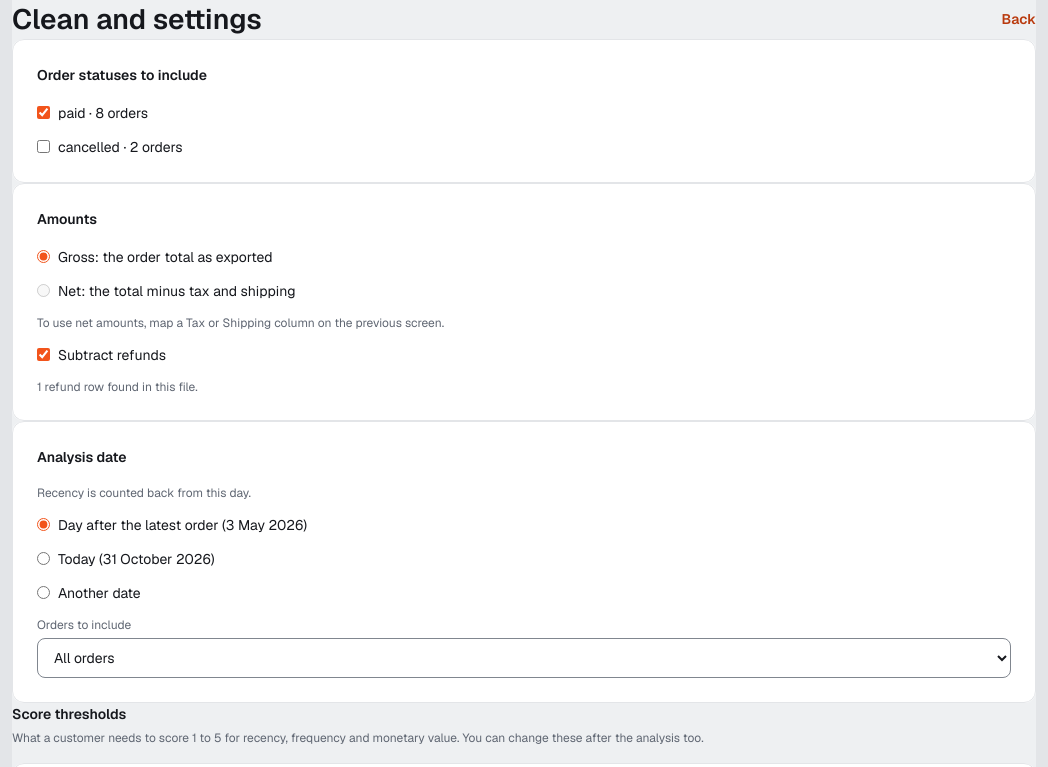
Scenario: CleanScreen (story 3) › updates the counts when a status is ticked
Click the checkbox labelled "cancelled · 2 orders" at (44,146), box [37,140,50,153]
(page scrolled)
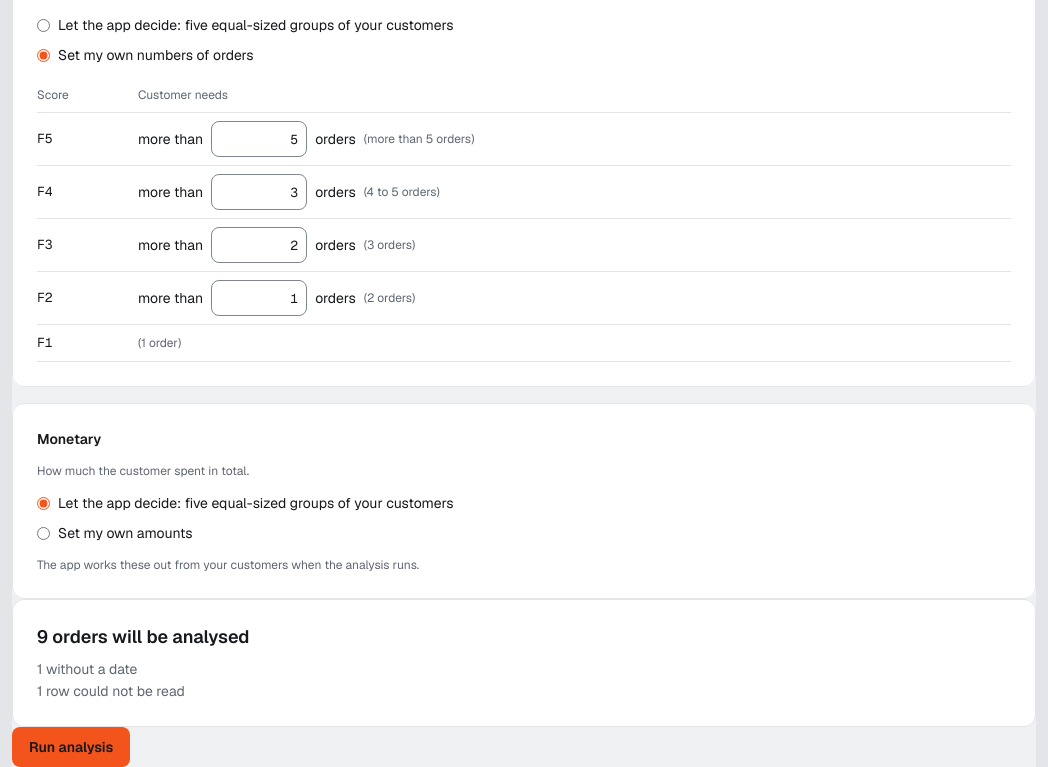
expect the element with test id "exclusion-counts" shows "9 orders will be analysed": met, box [12,599,1036,727]
